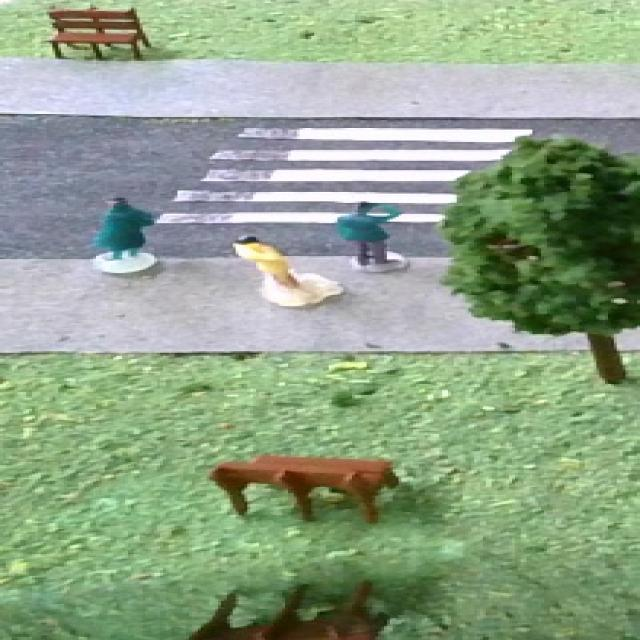person: (227, 231, 323, 307), (332, 196, 409, 277), (93, 191, 164, 273)
